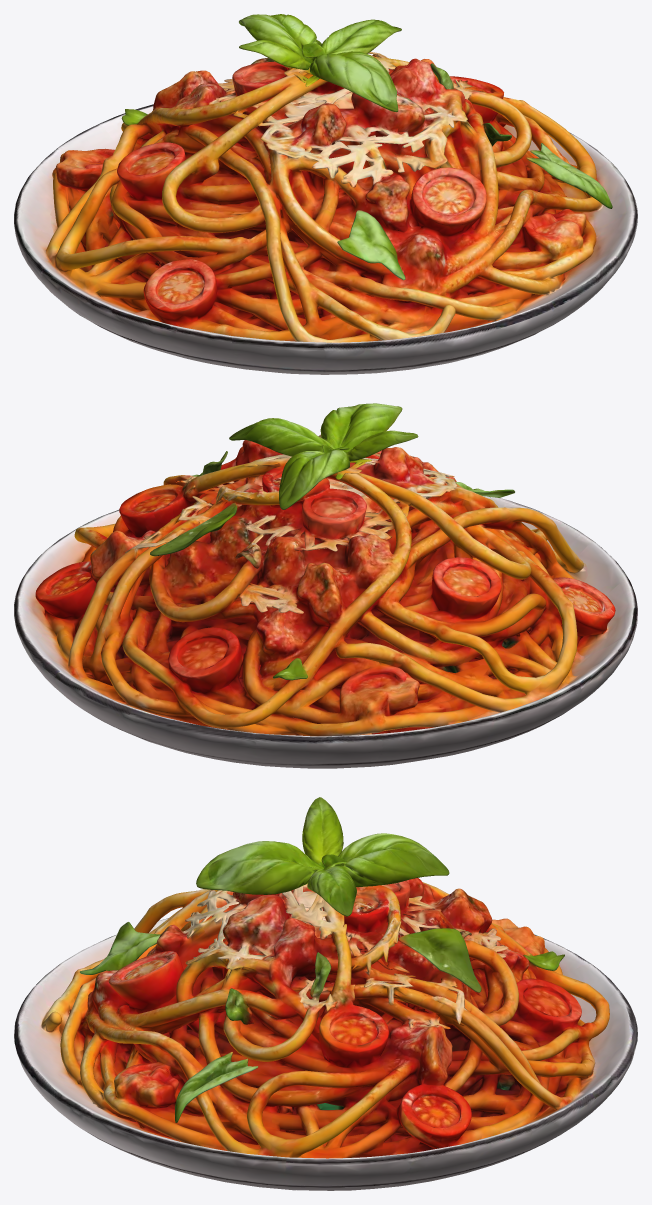
Rendered from spaghetti-with-tomato-sauce.glb.
3 views of the same model, one above another, from view 1: azimuth 30°, elevation 25°; view 2: azimuth 150°, elevation 25°; view 3: azimuth 270°, elevation 25° (orthographic).
Parts seen in each view (by area): view 1: tripo_node_81789d2e-6403-4904-a81a-12834423e28d; view 2: tripo_node_81789d2e-6403-4904-a81a-12834423e28d; view 3: tripo_node_81789d2e-6403-4904-a81a-12834423e28d.
Part boxes in pixels (x1,y1,x2,y2): tripo_node_81789d2e-6403-4904-a81a-12834423e28d: (14,14,637,374); tripo_node_81789d2e-6403-4904-a81a-12834423e28d: (14,403,637,768); tripo_node_81789d2e-6403-4904-a81a-12834423e28d: (14,797,637,1190).
Size of the model in its own units: 0.9786 by 0.431 by 0.9796.
1 material, 1 textured.
